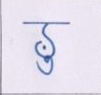u_matra: (35, 57, 57, 75)
